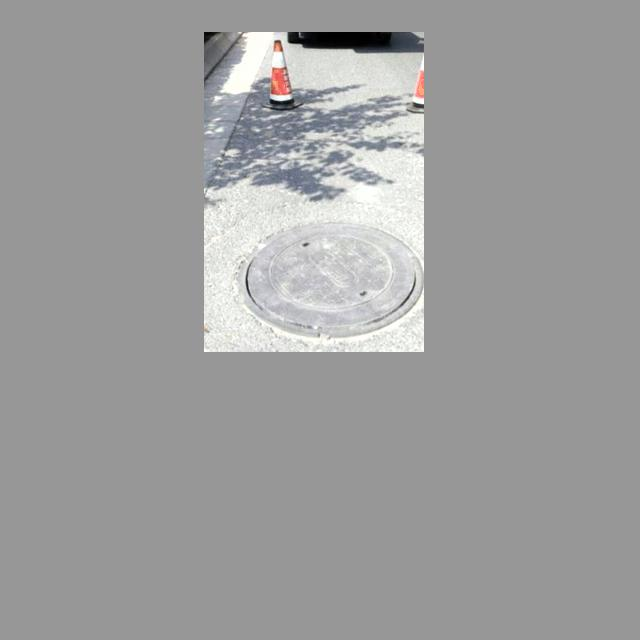good: (231, 219, 423, 339)
